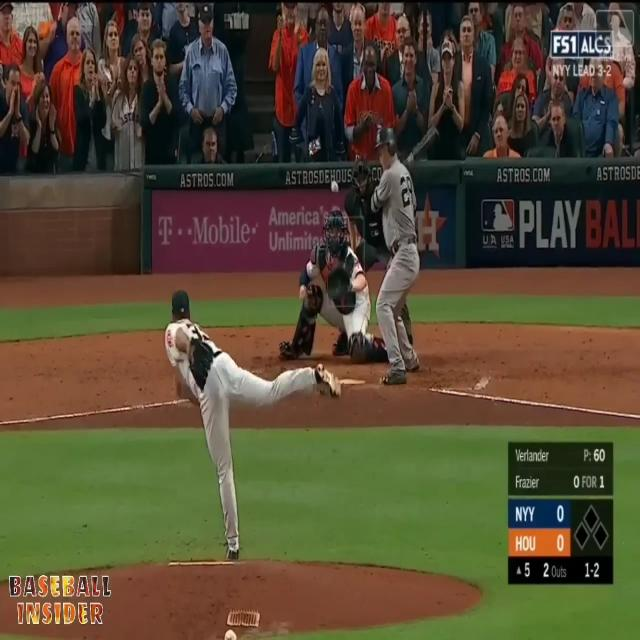baseball: (331, 181, 338, 194)
